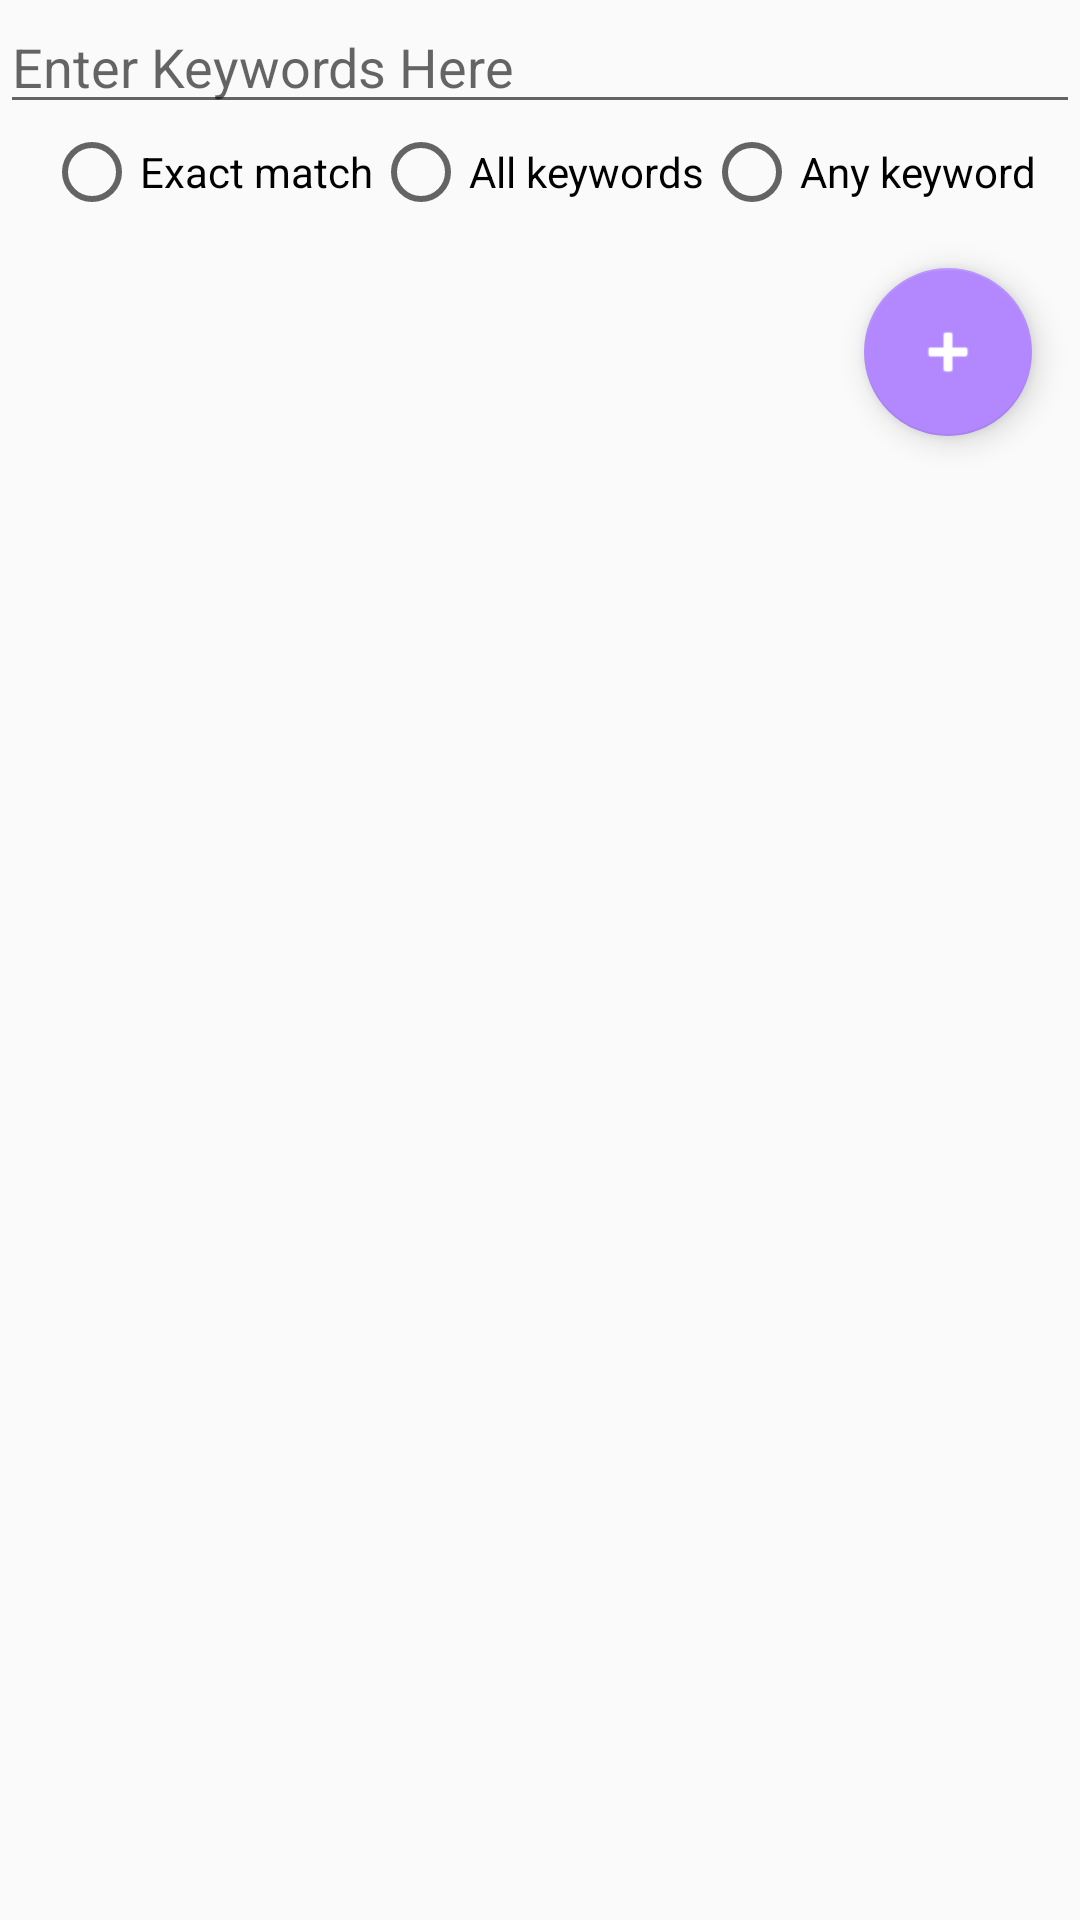

Icons on this 1080*1920 Android screen, each with its box as bbox(x1, y1, x2, y2):
add: bbox(864, 268, 1032, 436)
